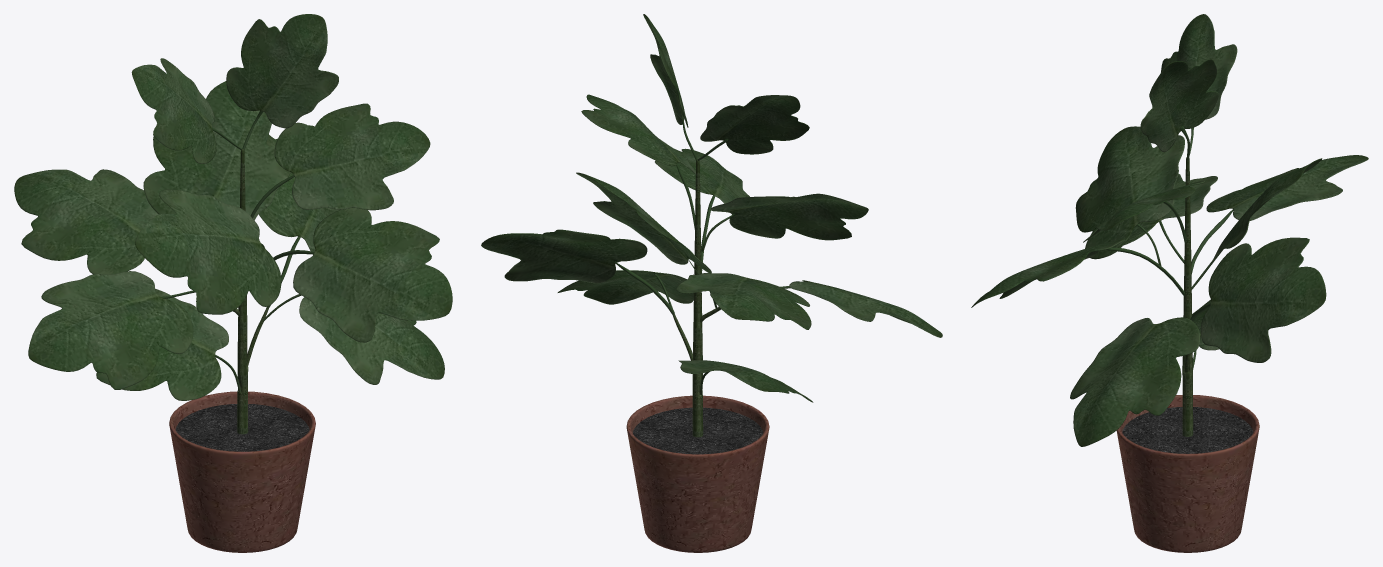
File: smatarna_sztuczna_roslina_doniczkowa_30632737.glb
The picture shows the model from 3 angles, left to right: view 1: azimuth 30°, elevation 25°; view 2: azimuth 150°, elevation 25°; view 3: azimuth 270°, elevation 25°; orthographic projection. The views are drawn at different scales.
Visible parts, largest first — view 1: smatarna_sztuczna_roslina_doniczkowa_30632737; view 2: smatarna_sztuczna_roslina_doniczkowa_30632737; view 3: smatarna_sztuczna_roslina_doniczkowa_30632737.
Part boxes in pixels (x1,y1,x2,y2): smatarna_sztuczna_roslina_doniczkowa_30632737: (14, 14, 452, 552); smatarna_sztuczna_roslina_doniczkowa_30632737: (481, 14, 942, 552); smatarna_sztuczna_roslina_doniczkowa_30632737: (971, 14, 1368, 552).
Size of the model in its own units: 0.3671 by 0.4576 by 0.3314.
Materials: 4 (4 with a texture image).
